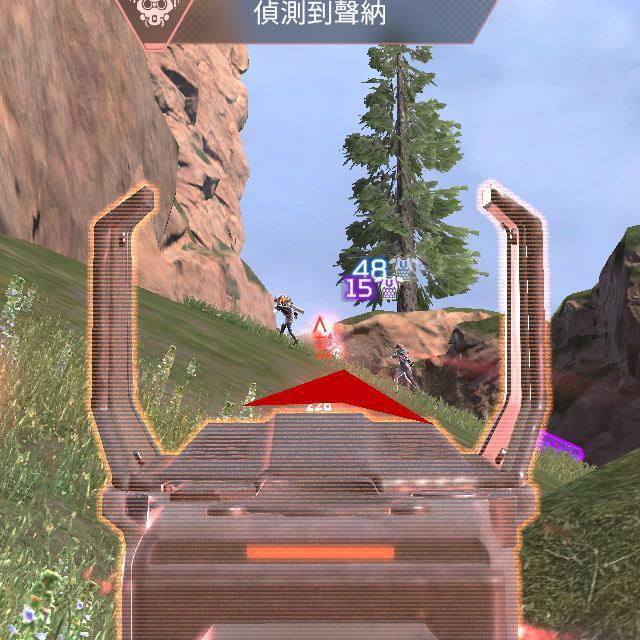avatar: (273, 294, 305, 347)
